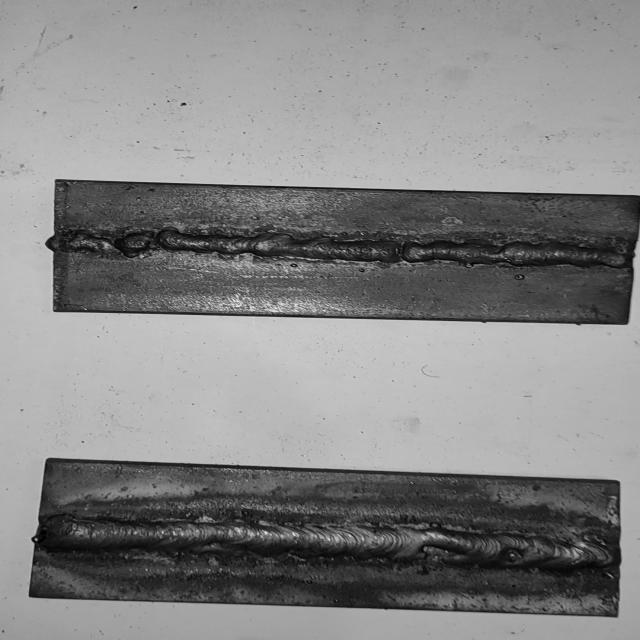Bad Weld: (38, 515, 616, 570), (52, 233, 633, 269)
Defect: (60, 225, 187, 263), (408, 533, 486, 574)
